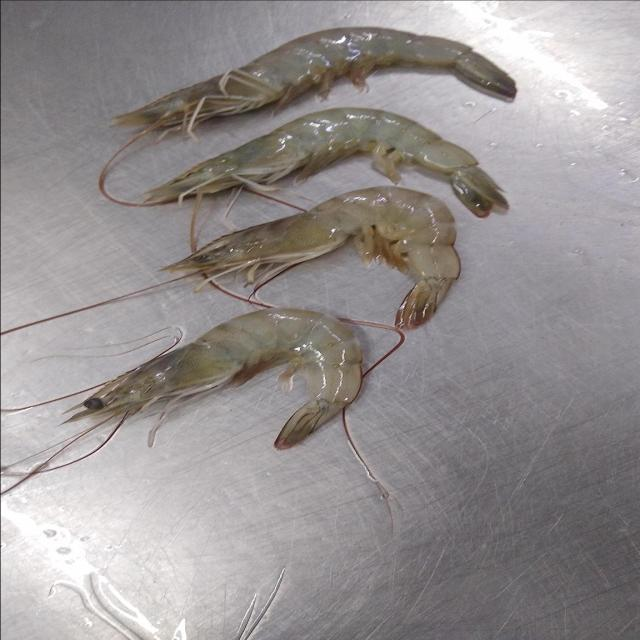shrimp: (111, 28, 516, 136), (162, 186, 460, 329), (67, 308, 362, 449), (142, 108, 507, 218)
